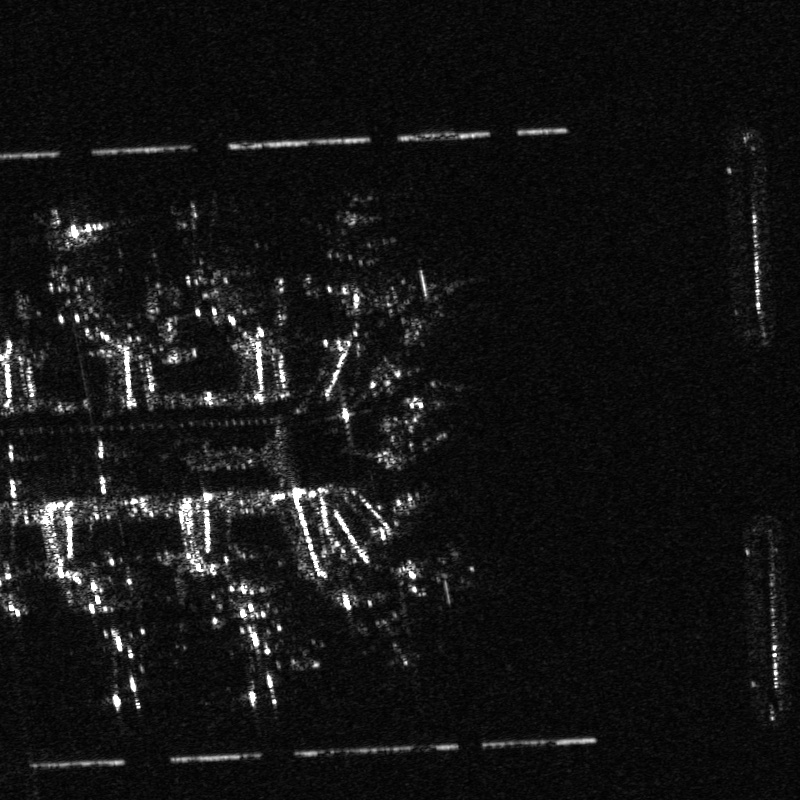A320/321: (289, 185, 402, 301), (22, 200, 113, 328), (164, 198, 249, 319), (215, 594, 296, 711), (373, 534, 484, 617)
Boeing737: (331, 583, 426, 668)
Boeing787: (76, 617, 163, 711)
